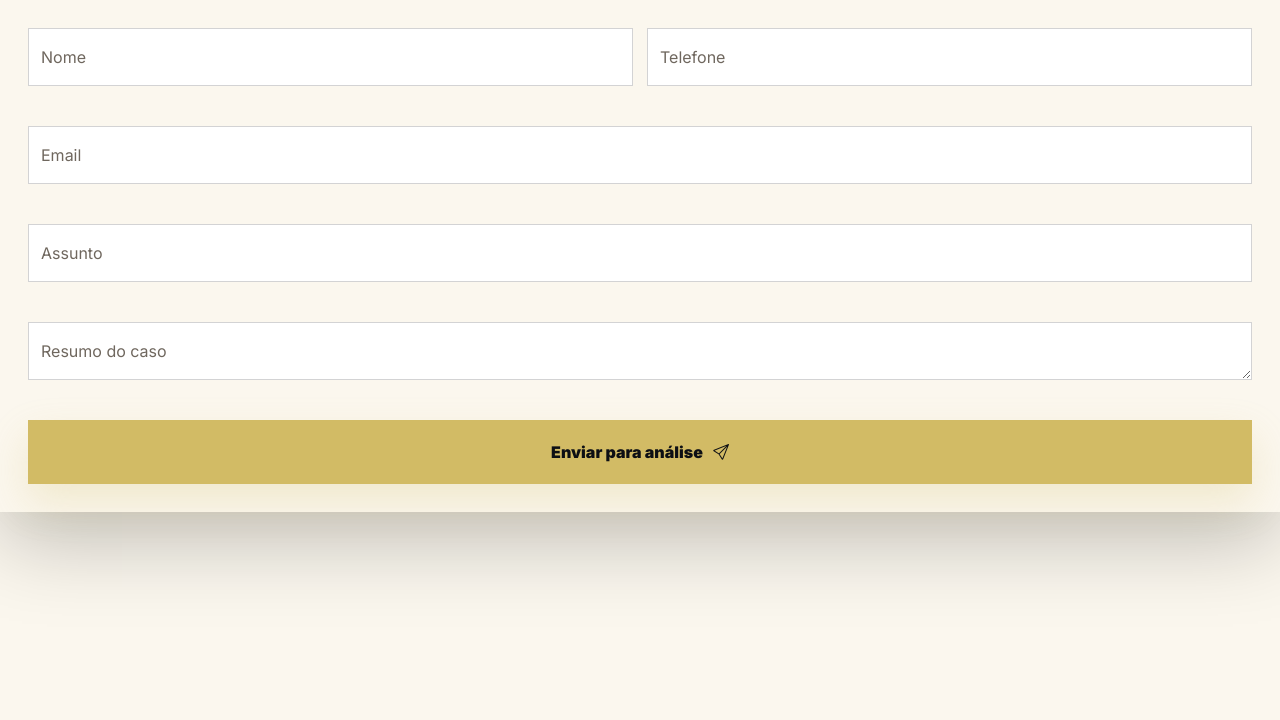
Test: contact form › validates on blur and formats the telephone
The width and height of the screenshot is (1280, 720).
Type "Al" into the field labelled "Nome" at (330, 57), box [28,28,633,86]
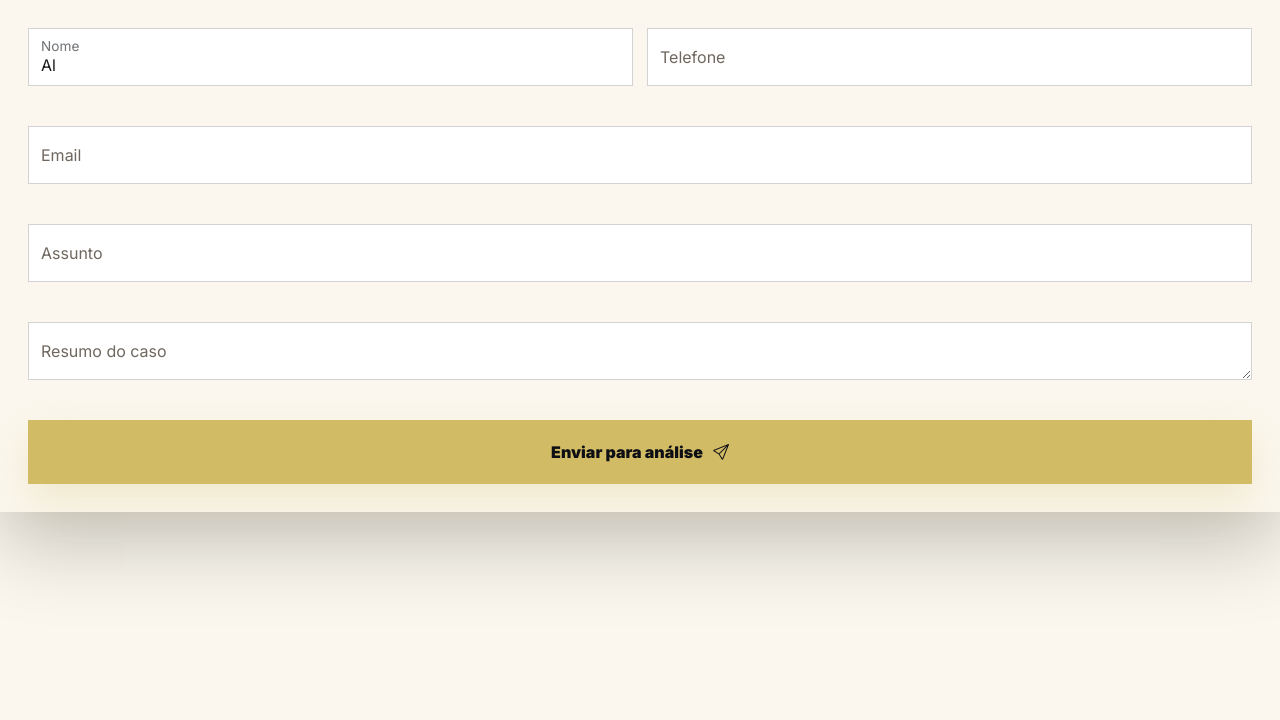
Leave the field labelled "Nome", box [28,28,633,86]
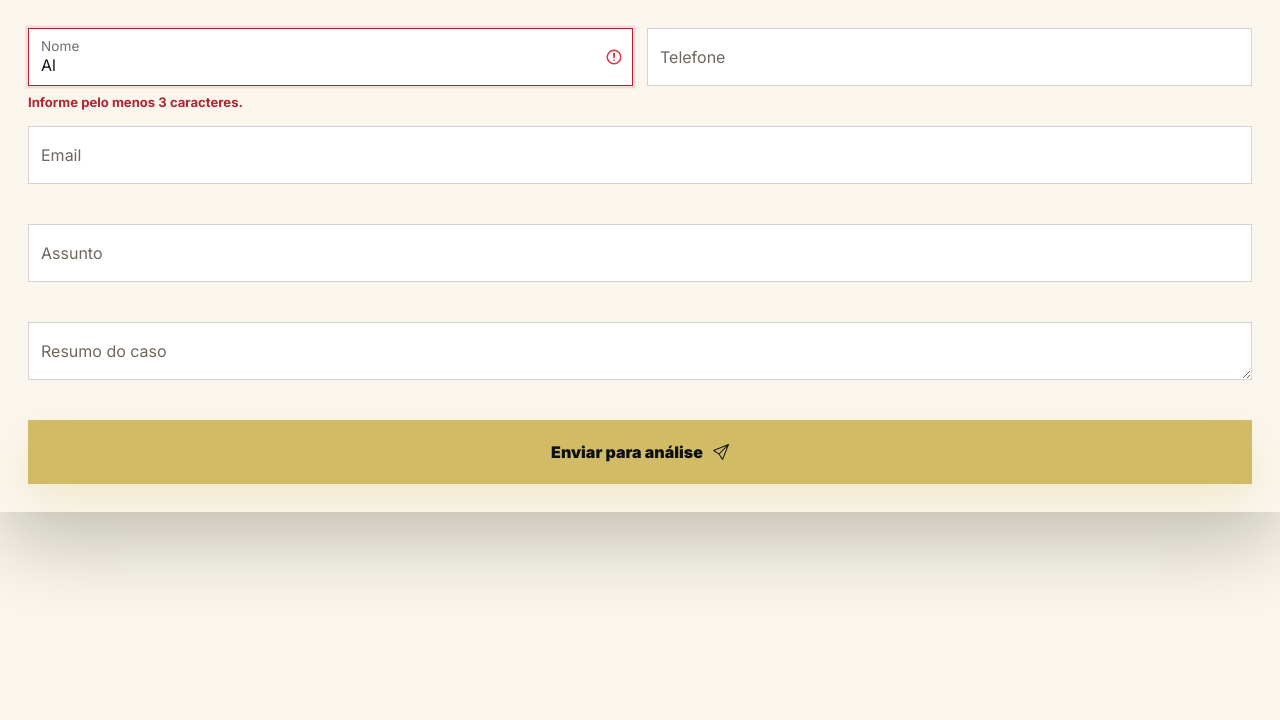
Check: the text "Informe pelo menos 3 caracteres." is shown, box [28,94,243,110]
Type "48999999999" into the field labelled "Telefone" at (950, 57), box [647,28,1252,86]
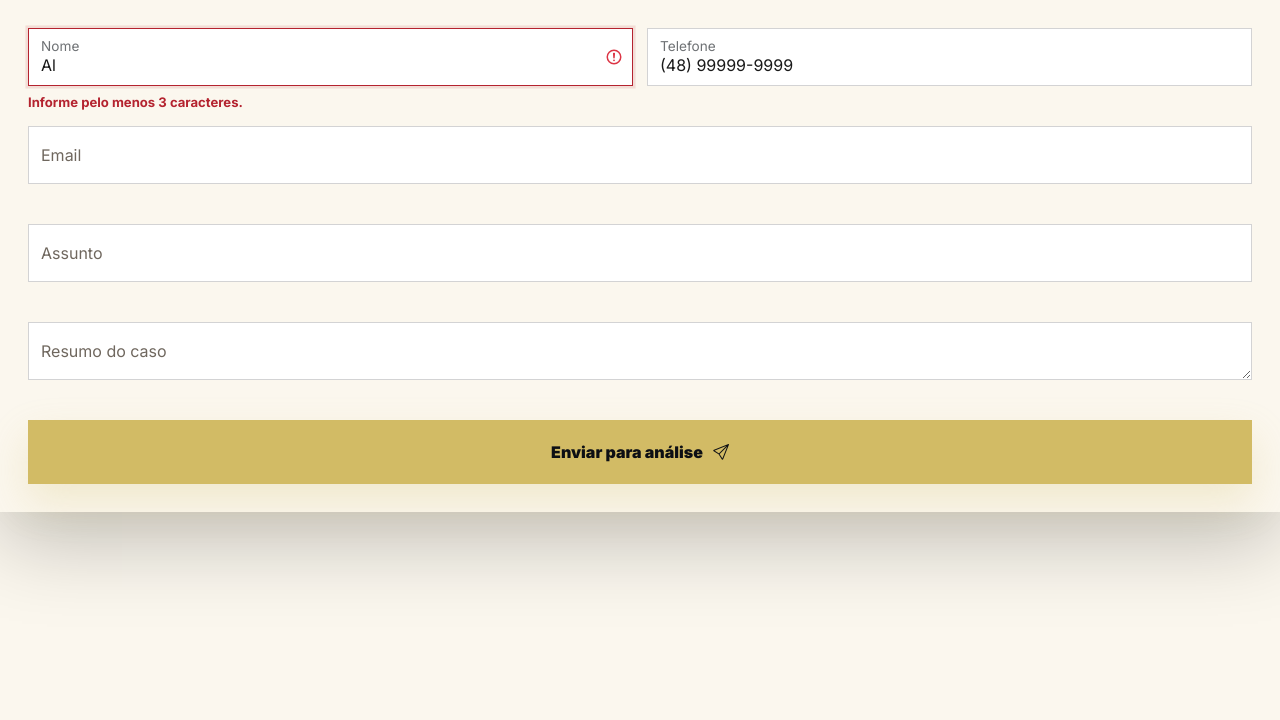
Check: the field labelled "Telefone" holds "(48) 99999-9999", box [647,28,1252,86]
